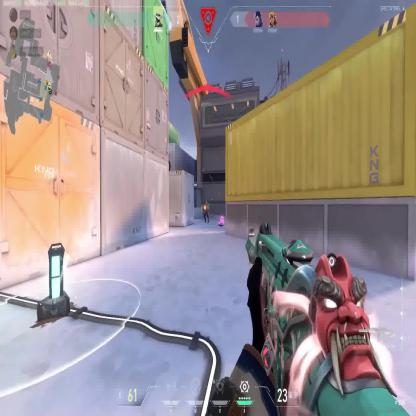enemy: (164, 148, 172, 174), (203, 201, 209, 220)
enemy_head: (205, 202, 208, 208)
